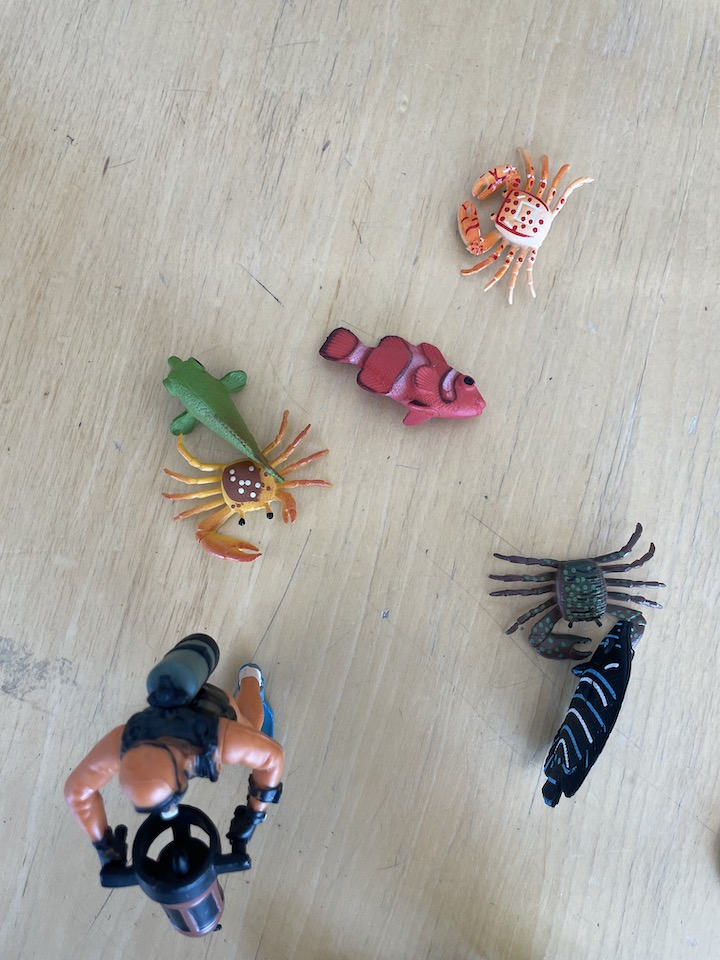crab: (159, 404, 334, 561), (489, 521, 667, 667), (453, 145, 596, 306)
diver: (60, 630, 289, 942)
fish: (539, 617, 642, 812), (314, 320, 493, 427), (156, 349, 290, 488)
